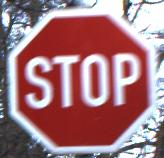Stop sign: (0, 0, 163, 157)
